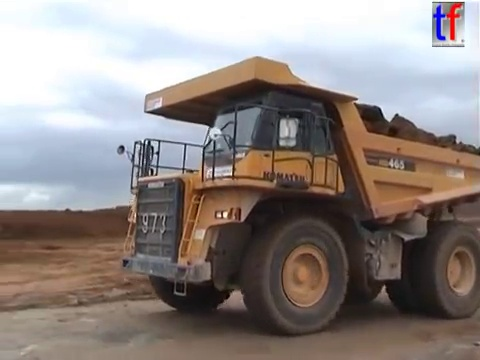truck: (114, 53, 480, 340)
